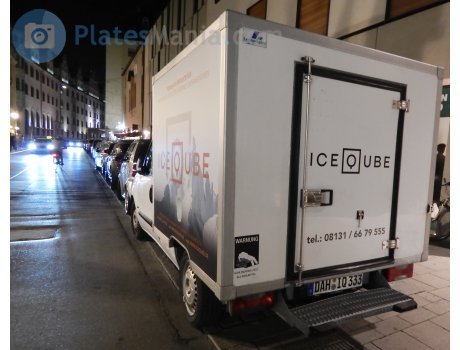License Plates: (314, 274, 366, 283)
